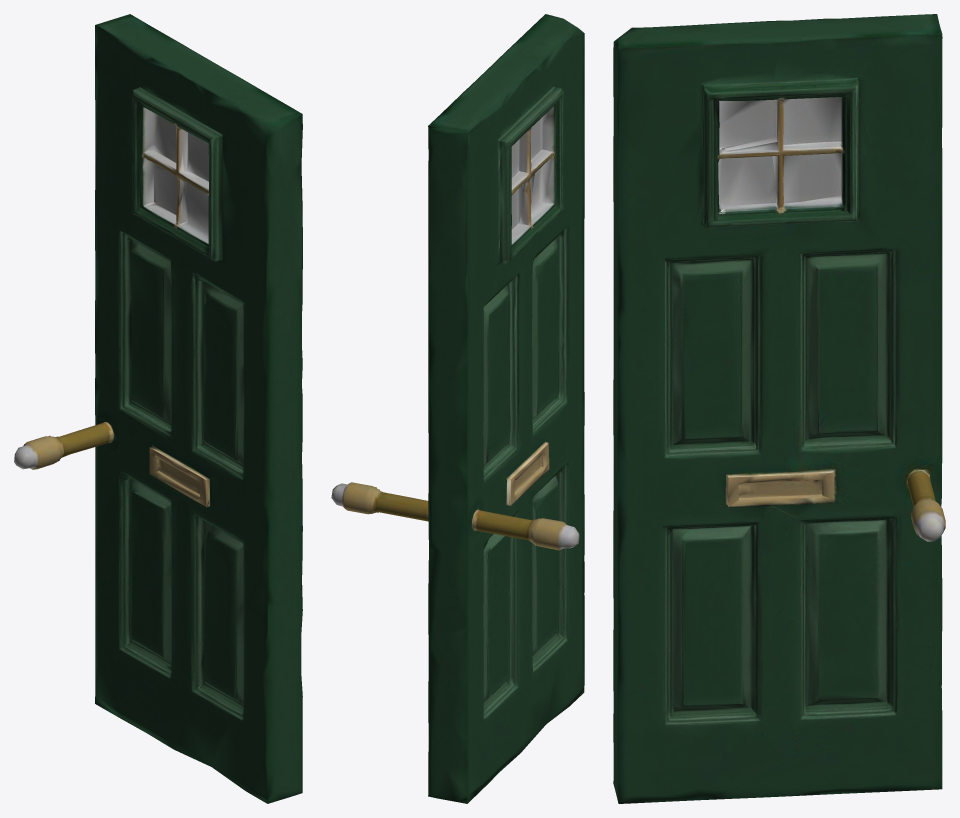
The model's file is leaf_front.glb.
The picture shows the model from 3 angles, left to right: view 1: azimuth 30°, elevation 25°; view 2: azimuth 150°, elevation 25°; view 3: azimuth 270°, elevation 25°; orthographic projection. The views are drawn at different scales.
Visible parts, largest first — view 1: tripo_node_21d47bca-40bb-4c4b-8360-43a815ab54e2; view 2: tripo_node_21d47bca-40bb-4c4b-8360-43a815ab54e2; view 3: tripo_node_21d47bca-40bb-4c4b-8360-43a815ab54e2.
Part boxes in pixels (x1=…): tripo_node_21d47bca-40bb-4c4b-8360-43a815ab54e2: x1=14, y1=14, x2=302, y2=803; tripo_node_21d47bca-40bb-4c4b-8360-43a815ab54e2: x1=331, y1=14, x2=584, y2=803; tripo_node_21d47bca-40bb-4c4b-8360-43a815ab54e2: x1=613, y1=14, x2=945, y2=803.
Bounding box in the file's own units: 0.3549 × 0.9798 × 0.3902.
1 material, 1 textured.
